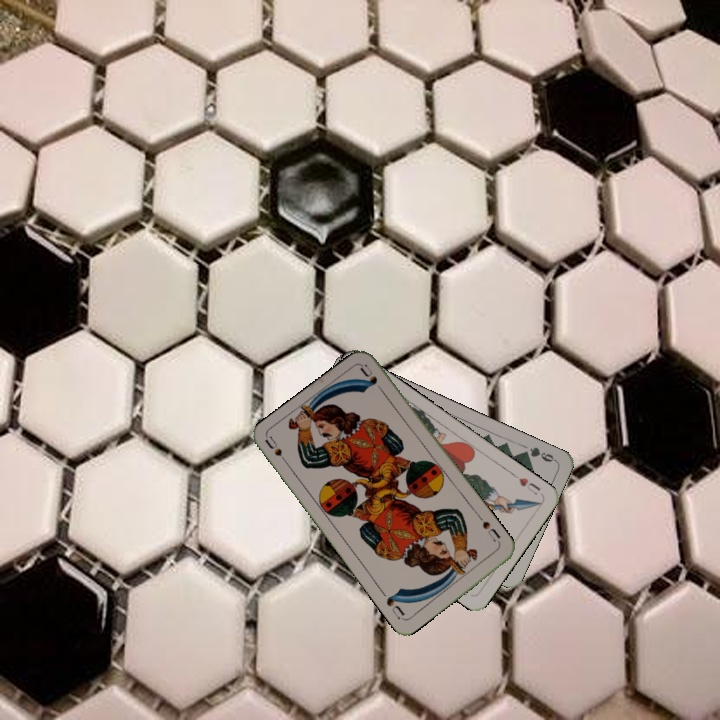G9: (517, 443, 558, 465)
HU: (509, 470, 543, 498)
SU: (261, 433, 293, 470), (478, 517, 503, 548)
